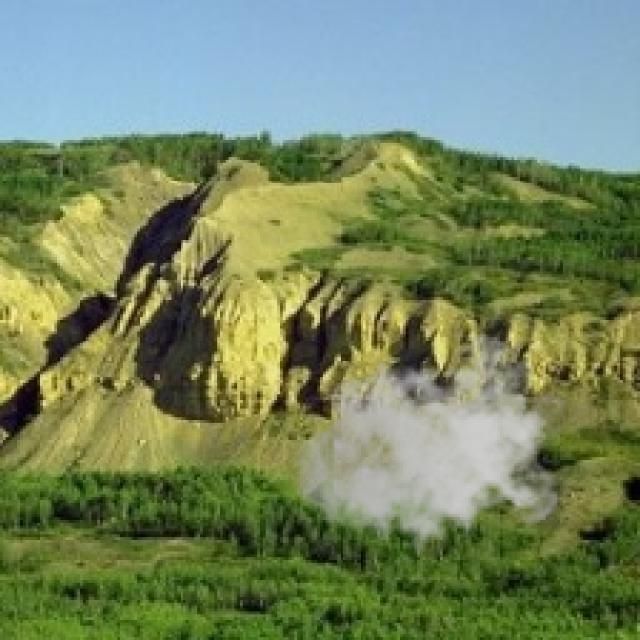Smoke: (294, 334, 566, 566)
